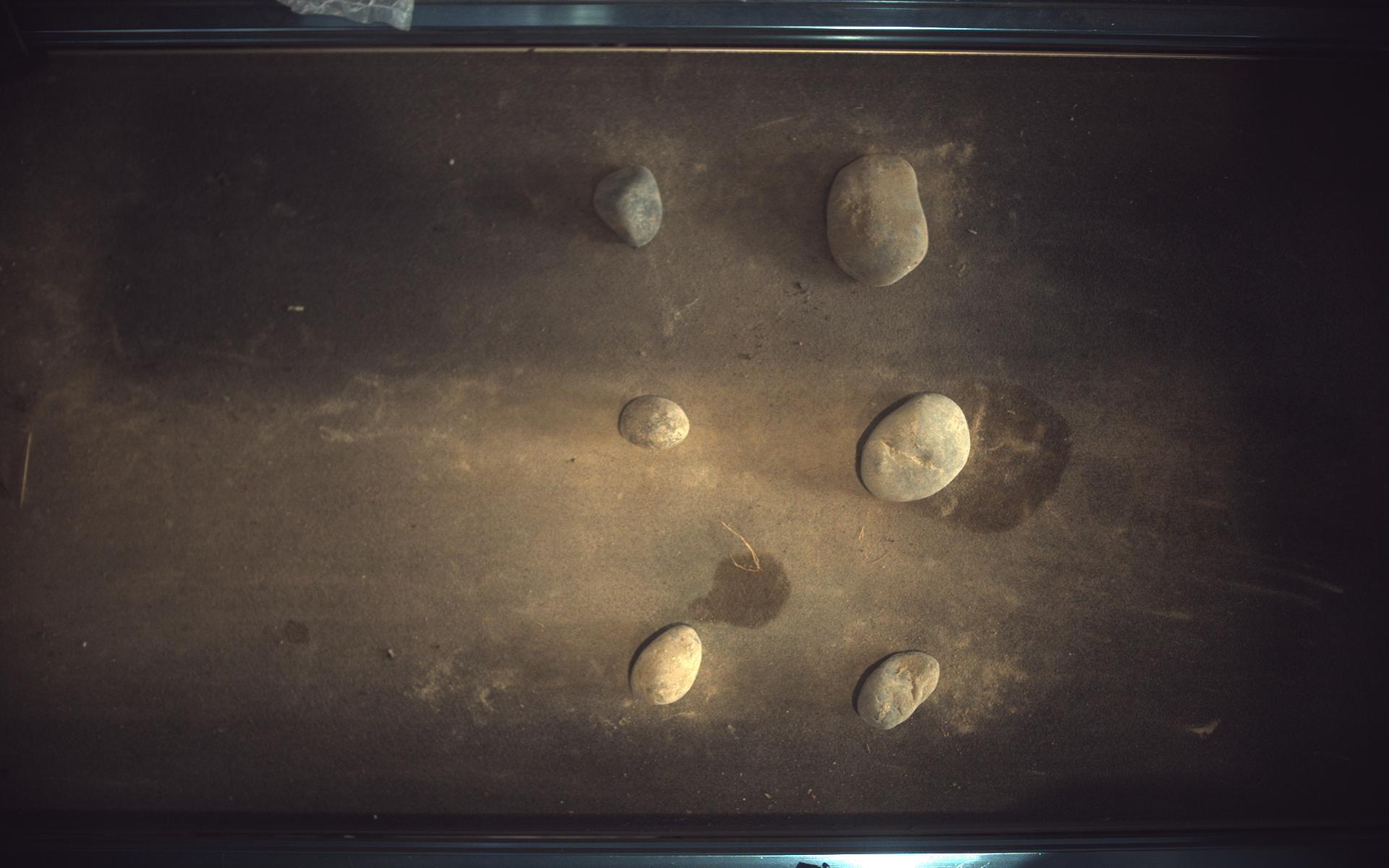stone: (828, 153, 930, 286), (862, 393, 972, 502), (858, 652, 942, 731), (594, 164, 663, 247), (631, 626, 702, 706), (619, 395, 691, 451)
